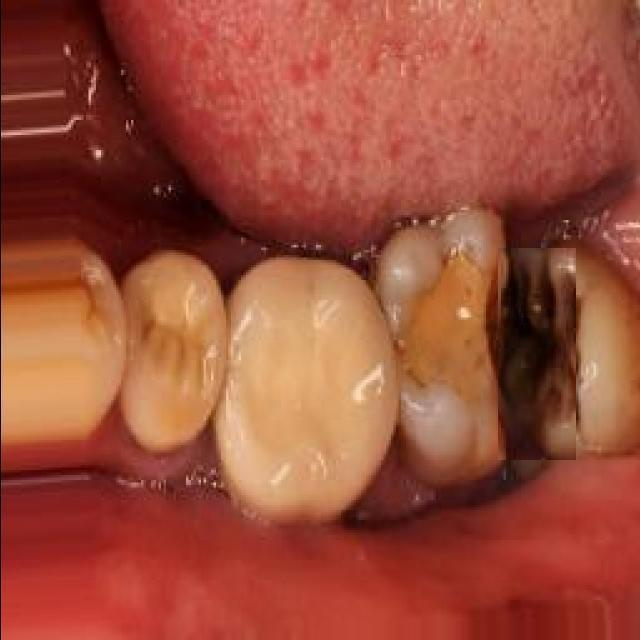caries: (393, 238, 503, 420), (497, 248, 575, 460)
